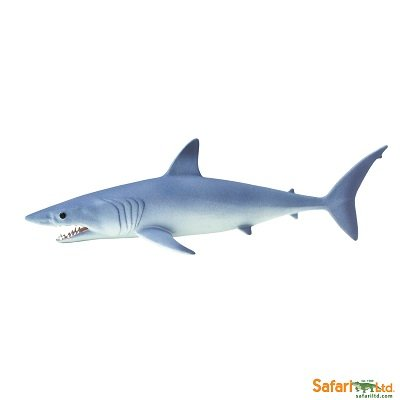shark: (20, 133, 400, 266)
